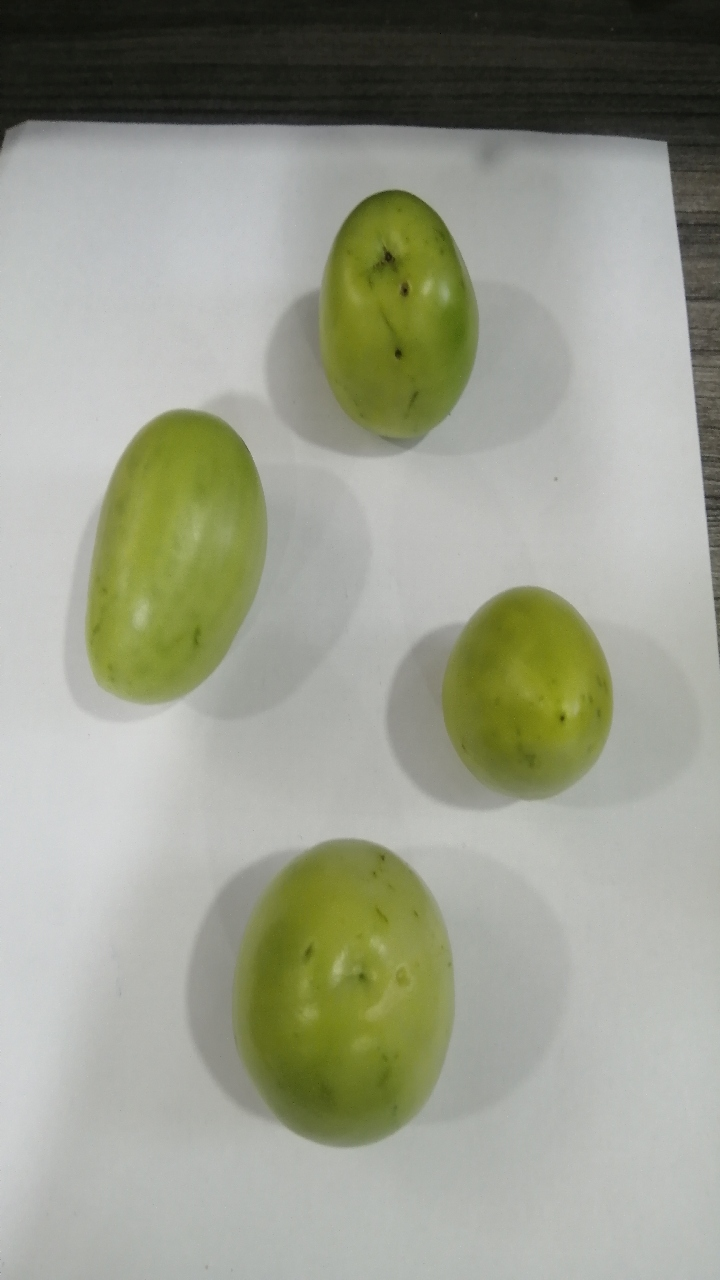tomateVerde: (218, 823, 461, 1151), (63, 392, 284, 723), (291, 160, 495, 474), (428, 560, 626, 815)
